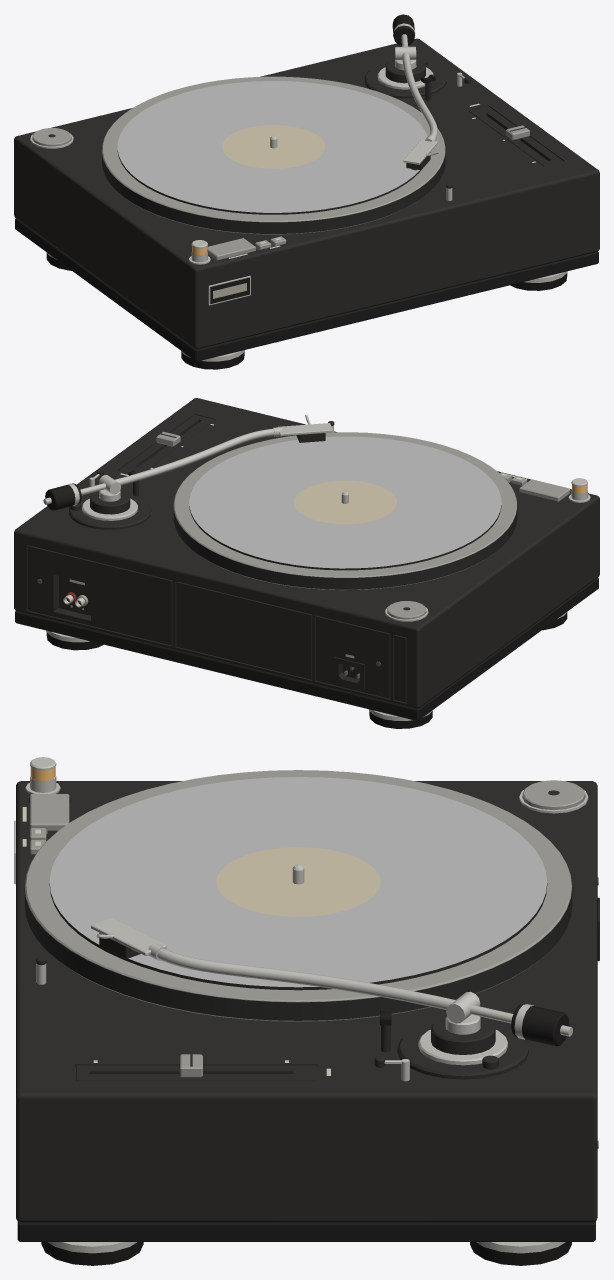
File: dj-turntable-direct-e0cfe1450d54.glb
The picture shows the model from 3 angles, top to bottom: view 1: azimuth 30°, elevation 25°; view 2: azimuth 150°, elevation 25°; view 3: azimuth 270°, elevation 25°; orthographic projection. The views are drawn at different scales.
Visible parts, largest first — view 1: plastic-dark, vinyl, brushed, rubber, grille-mesh, chrome, paper, rubber-foot, enamel-black; view 2: plastic-dark, vinyl, brushed, rubber, chrome, grille-mesh, paper, rubber-foot, enamel-black; view 3: plastic-dark, vinyl, brushed, chrome, rubber, grille-mesh, paper, rubber-foot, enamel-black.
Boxes of the visible parts, <box> form: plastic-dark: <box>14,38,599,349</box>; vinyl: <box>117,81,427,212</box>; brushed: <box>32,76,529,260</box>; rubber: <box>15,74,598,361</box>; grille-mesh: <box>102,150,445,233</box>; chrome: <box>30,23,567,361</box>; paper: <box>222,125,325,168</box>; rubber-foot: <box>46,253,567,369</box>; enamel-black: <box>210,14,414,303</box>; plastic-dark: <box>14,398,599,708</box>; vinyl: <box>189,436,501,568</box>; brushed: <box>156,431,570,619</box>; rubber: <box>15,470,598,720</box>; chrome: <box>43,415,590,720</box>; grille-mesh: <box>173,508,517,589</box>; paper: <box>294,480,396,524</box>; rubber-foot: <box>46,612,567,728</box>; enamel-black: <box>45,483,81,510</box>; plastic-dark: <box>16,781,599,1222</box>; vinyl: <box>49,777,547,987</box>; brushed: <box>25,770,585,1077</box>; chrome: <box>14,757,588,1253</box>; rubber: <box>17,1010,595,1241</box>; grille-mesh: <box>24,888,572,1020</box>; paper: <box>216,847,380,916</box>; rubber-foot: <box>41,1242,571,1265</box>; enamel-black: <box>511,1003,569,1046</box>.
Size of the model in its own units: 0.453 by 0.1622 by 0.3556.
